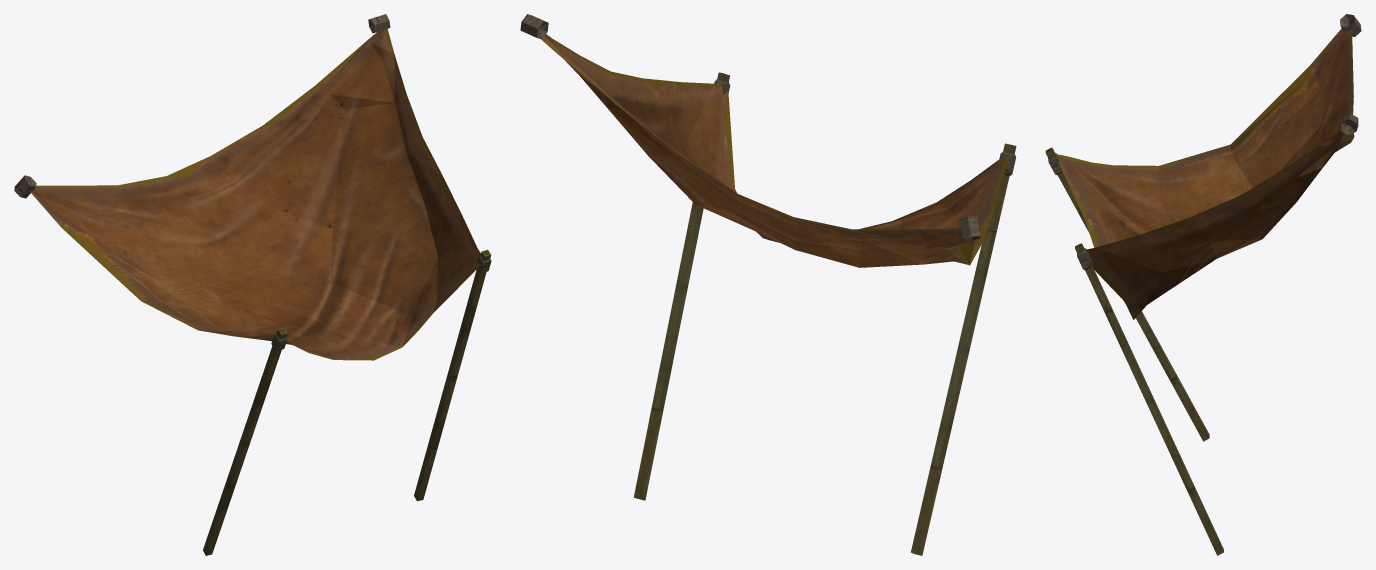
The model's file is House3.fbx.
3 renders of one model, left to right at view 1: azimuth 30°, elevation 25°; view 2: azimuth 150°, elevation 25°; view 3: azimuth 270°, elevation 25°, orthographic. The views are drawn at different scales.
Visible parts, largest first — view 1: AT_BGAgo_AwningA01_13B.mo; view 2: AT_BGAgo_AwningA01_13B.mo; view 3: AT_BGAgo_AwningA01_13B.mo.
Part boxes in pixels (x1,y1,x2,y2): AT_BGAgo_AwningA01_13B.mo: [14, 14, 491, 555]; AT_BGAgo_AwningA01_13B.mo: [520, 14, 1016, 555]; AT_BGAgo_AwningA01_13B.mo: [1045, 14, 1361, 555].
Bounding box in the file's own units: 764 × 851 × 541.
